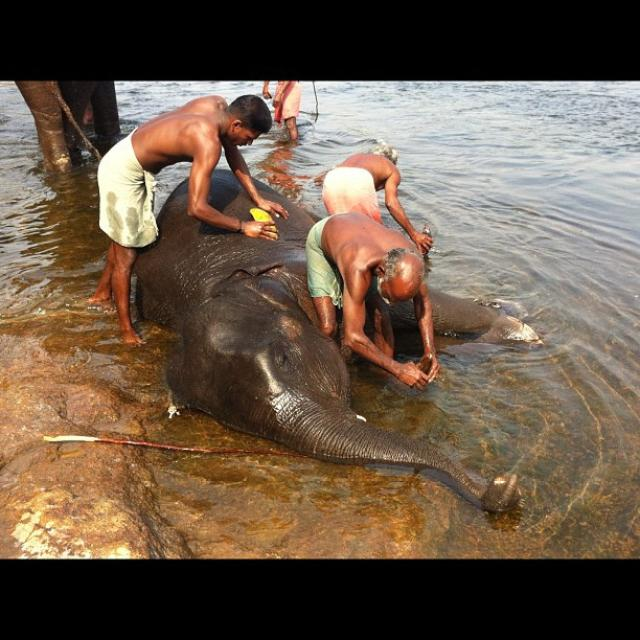Elephant: (129, 167, 523, 514), (14, 78, 121, 174)
person: (85, 93, 288, 345), (304, 211, 440, 391), (318, 142, 433, 256), (262, 79, 301, 141)
